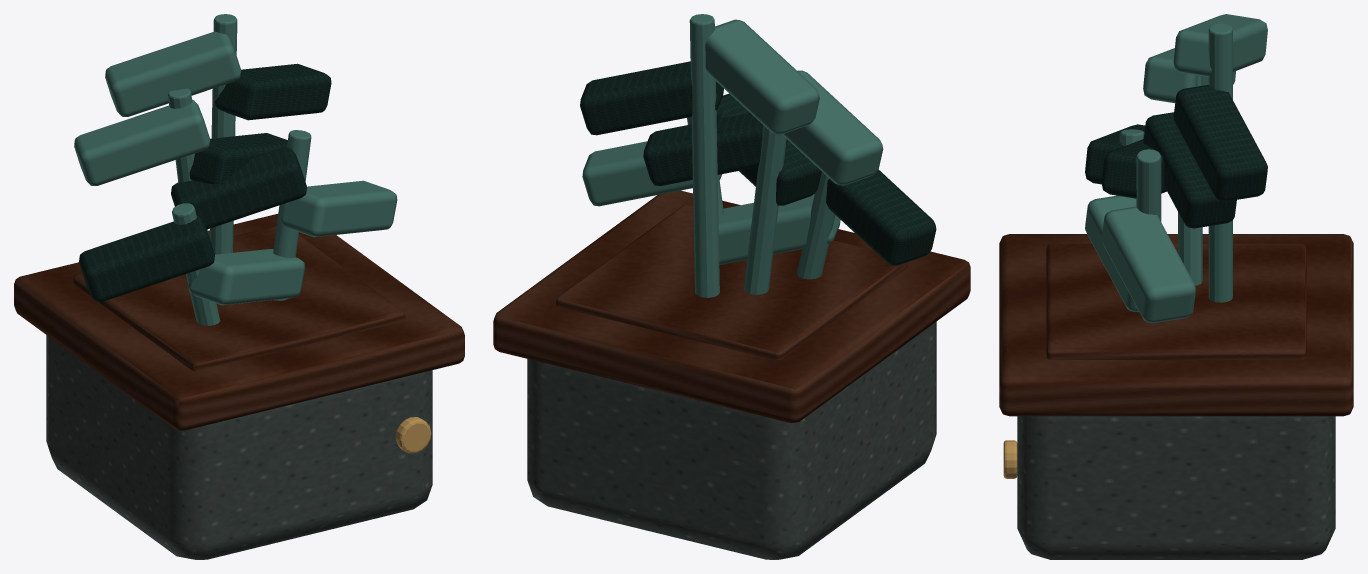
The model's file is architectural-planter.glb.
3 renders of one model, left to right at view 1: azimuth 30°, elevation 25°; view 2: azimuth 150°, elevation 25°; view 3: azimuth 270°, elevation 25°, orthographic. The views are drawn at different scales.
Parts seen in each view (by area): view 1: Planter_Base, Planter_Rim, Planter_Soil, Planter_Leaf_1_1, Planter_Leaf_4_1, Planter_Leaf_3_1, Planter_Leaf_2_1, Planter_Leaf_2_2, Planter_Leaf_3_2, Planter_Leaf_4_2, Planter_Leaf_1_2, Planter_Stem_3 (+4 smaller); view 2: Planter_Base, Planter_Rim, Planter_Soil, Planter_Leaf_3_1, Planter_Stem_3, Planter_Leaf_4_1, Planter_Leaf_3_2, Planter_Leaf_1_1, Planter_Leaf_1_2, Planter_Stem_1, Planter_Leaf_2_2, Planter_Leaf_4_2 (+2 smaller); view 3: Planter_Base, Planter_Rim, Planter_Soil, Planter_Leaf_3_2, Planter_Leaf_2_2, Planter_Leaf_1_2, Planter_Stem_3, Planter_Leaf_3_1, Planter_Leaf_2_1, Planter_Leaf_1_1, Planter_Leaf_4_2, Planter_Stem_2 (+3 smaller).
Boxes of the visible parts, x1,y1,x2,y2 form: Planter_Base: [46, 335, 432, 559]; Planter_Rim: [14, 214, 464, 430]; Planter_Soil: [73, 226, 405, 371]; Planter_Leaf_1_1: [74, 99, 210, 185]; Planter_Leaf_4_1: [79, 215, 214, 301]; Planter_Leaf_3_1: [105, 31, 241, 116]; Planter_Leaf_2_1: [171, 147, 306, 229]; Planter_Leaf_2_2: [281, 180, 397, 237]; Planter_Leaf_3_2: [215, 63, 331, 120]; Planter_Leaf_4_2: [188, 249, 305, 305]; Planter_Leaf_1_2: [189, 133, 287, 183]; Planter_Stem_3: [209, 14, 237, 254]; Planter_Base: [527, 321, 936, 559]; Planter_Rim: [493, 190, 970, 422]; Planter_Soil: [556, 204, 907, 359]; Planter_Leaf_3_1: [705, 19, 819, 134]; Planter_Stem_3: [689, 14, 719, 297]; Planter_Leaf_4_1: [814, 169, 936, 265]; Planter_Leaf_3_2: [580, 61, 723, 135]; Planter_Leaf_1_1: [782, 70, 883, 185]; Planter_Leaf_1_2: [643, 113, 787, 185]; Planter_Stem_1: [743, 125, 786, 294]; Planter_Leaf_2_2: [582, 141, 722, 206]; Planter_Leaf_4_2: [718, 194, 840, 264]; Planter_Base: [1017, 416, 1335, 559]; Planter_Rim: [999, 234, 1353, 416]; Planter_Soil: [1046, 243, 1306, 359]; Planter_Leaf_3_2: [1173, 85, 1267, 201]; Planter_Leaf_2_2: [1101, 206, 1195, 323]; Planter_Leaf_1_2: [1143, 112, 1236, 228]; Planter_Stem_3: [1208, 23, 1232, 302]; Planter_Leaf_3_1: [1173, 14, 1267, 76]; Planter_Leaf_2_1: [1101, 139, 1166, 198]; Planter_Leaf_1_1: [1143, 48, 1235, 103]; Planter_Leaf_4_2: [1085, 195, 1138, 311]; Planter_Stem_2: [1136, 149, 1161, 313].
Size of the model in its own units: 1.4 by 1.92 by 1.28.
6 materials, 4 textured.
